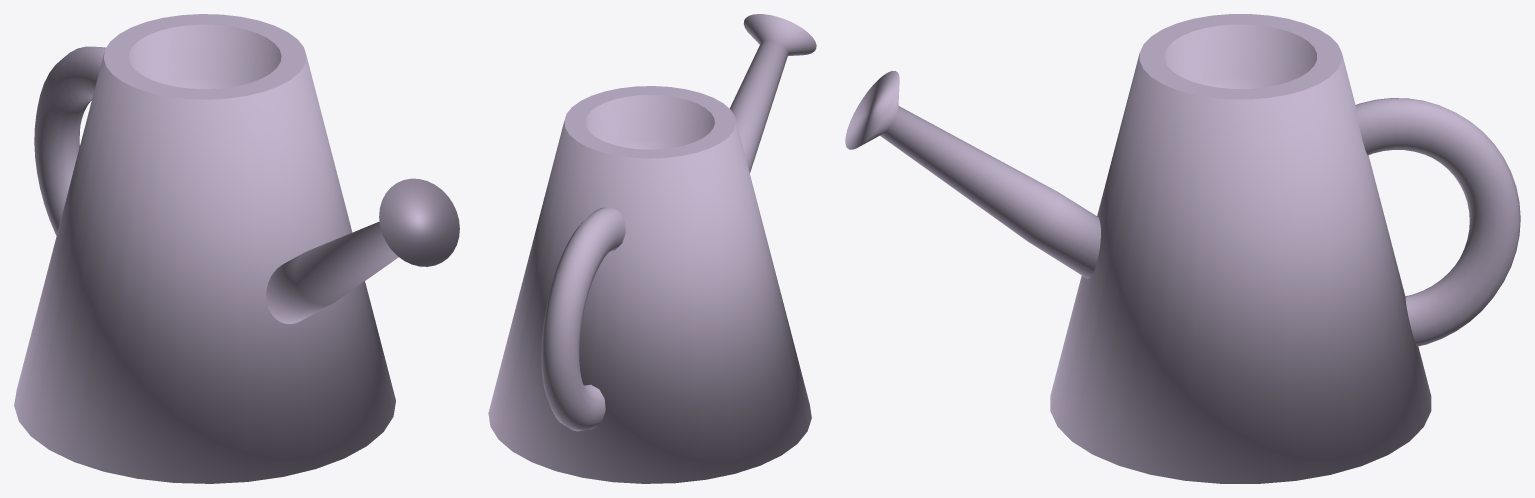
Rendered from Regadera Anim .fbx.
3 views of the same model, side by side, from view 1: azimuth 30°, elevation 25°; view 2: azimuth 150°, elevation 25°; view 3: azimuth 270°, elevation 25° (orthographic). The views are drawn at different scales.
Parts seen in each view (by area): view 1: Cylinder; view 2: Cylinder; view 3: Cylinder.
Part boxes in pixels (x1,y1,x2,y2): Cylinder: (14,14,459,483); Cylinder: (488,14,816,483); Cylinder: (845,14,1520,483).
Size of the model in its own units: 32.66 by 32.81 by 57.91.
